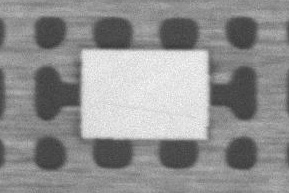DIE_CRACK: (156, 69, 289, 78)
